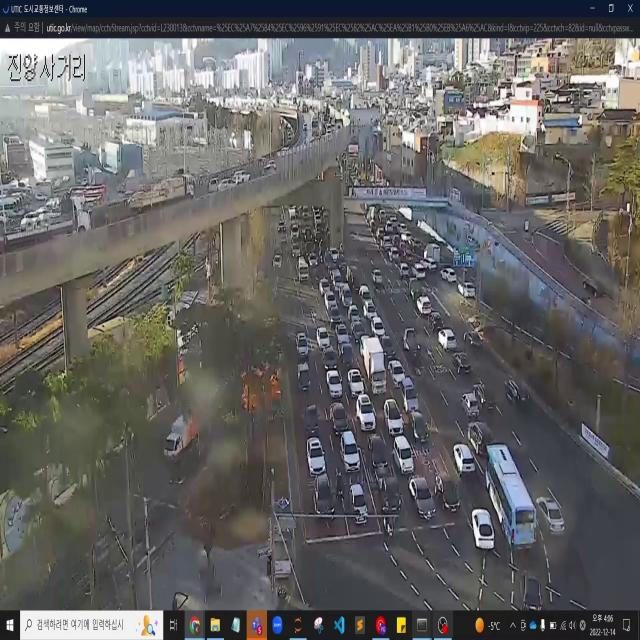bus: (380, 504, 395, 547)
car: (484, 441, 537, 548)
motorcycle: (409, 470, 435, 526), (537, 490, 567, 538), (313, 471, 336, 523), (436, 472, 462, 516), (471, 507, 496, 551), (467, 420, 493, 458), (505, 375, 532, 410), (341, 431, 362, 475), (304, 437, 326, 478), (394, 435, 416, 476), (348, 482, 368, 526), (383, 396, 405, 436), (452, 441, 477, 475), (368, 432, 390, 470), (356, 393, 377, 432), (401, 375, 421, 415), (328, 399, 350, 435), (410, 409, 429, 446), (304, 399, 321, 438), (388, 355, 406, 390), (326, 369, 346, 398), (463, 325, 483, 351), (349, 368, 365, 398), (453, 349, 470, 377), (461, 391, 479, 416), (294, 328, 309, 358), (439, 328, 457, 352), (457, 279, 477, 300), (298, 363, 311, 394), (372, 266, 386, 286)
truck: (163, 410, 201, 466), (375, 468, 404, 514), (363, 338, 387, 393), (403, 324, 422, 362)
